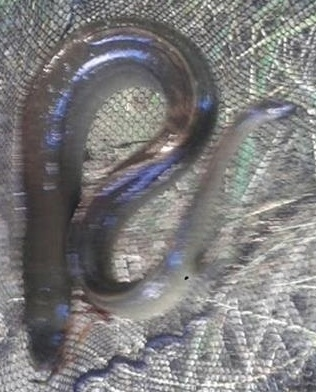Anguilla anguilla: (20, 20, 296, 372)
